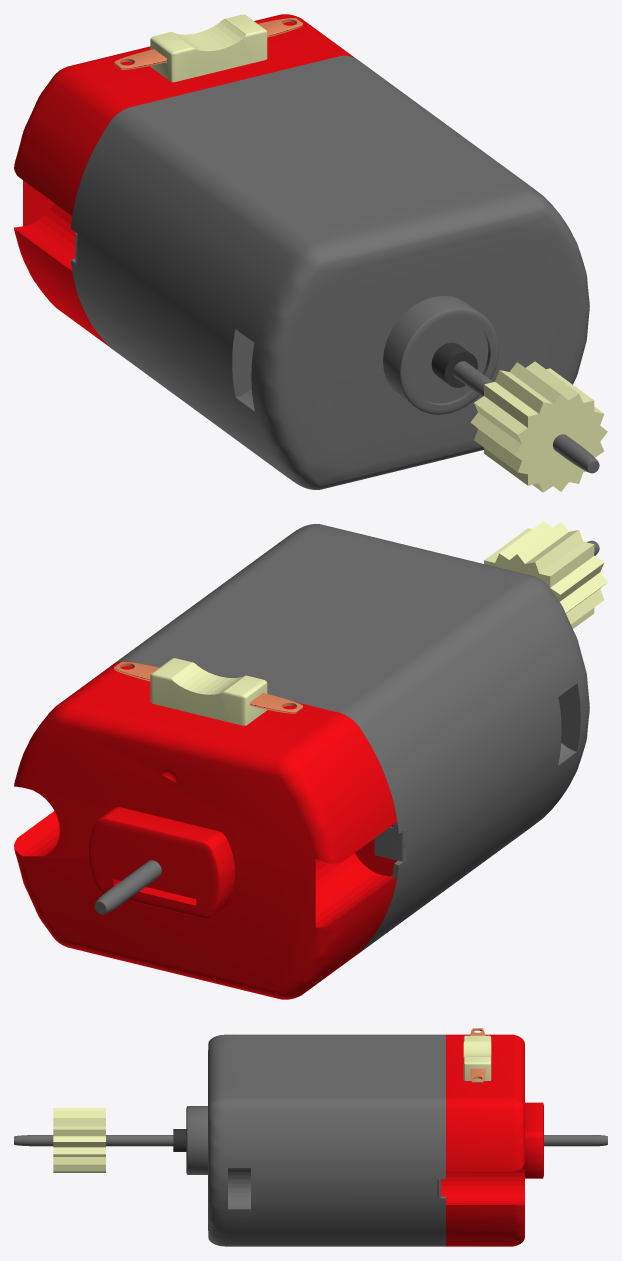
File: motor.fbx
The picture shows the model from 3 angles, top to bottom: view 1: azimuth 30°, elevation 25°; view 2: azimuth 150°, elevation 25°; view 3: azimuth 270°, elevation 25°; orthographic projection. The views are drawn at different scales.
Visible parts, largest first — view 1: CilindroMetal, CilindroRojo, Estrella, Cilindro00, ContactoCubo, Cilindro02, Cilindro01, ContactoCobre; view 2: CilindroMetal, CilindroRojo, Cilindro, Estrella, ContactoCubo, Cilindro03, ContactoCobre, Cubo2; view 3: CilindroMetal, CilindroRojo, Estrella, Cilindro00, Cilindro, Cilindro02, ContactoCubo, Cilindro03, ContactoCobre, Cilindro01.
Part boxes in pixels (box(x1,y1,x2,y2)): CilindroMetal: box(70, 55, 589, 489); CilindroRojo: box(14, 14, 354, 346); Estrella: box(470, 361, 607, 492); Cilindro00: box(383, 295, 499, 414); ContactoCubo: box(150, 14, 267, 82); Cilindro02: box(453, 361, 599, 473); Cilindro01: box(431, 342, 477, 387); ContactoCobre: box(114, 18, 302, 69); CilindroMetal: box(111, 524, 589, 952); CilindroRojo: box(14, 661, 404, 999); Cilindro: box(89, 807, 234, 918); Estrella: box(484, 521, 607, 628); ContactoCubo: box(150, 658, 267, 725); Cilindro03: box(94, 860, 161, 914); ContactoCobre: box(114, 661, 302, 713); Cubo2: box(374, 827, 406, 861); CilindroMetal: box(208, 1034, 445, 1246); CilindroRojo: box(441, 1034, 524, 1246); Estrella: box(53, 1108, 105, 1172); Cilindro00: box(186, 1106, 207, 1174); Cilindro: box(525, 1102, 543, 1178); Cilindro02: box(14, 1135, 173, 1146); ContactoCubo: box(463, 1035, 491, 1080); Cilindro03: box(544, 1135, 607, 1146); ContactoCobre: box(470, 1028, 485, 1082); Cilindro01: box(173, 1129, 186, 1151).
Size of the model in its own units: 200 by 159 by 516.
